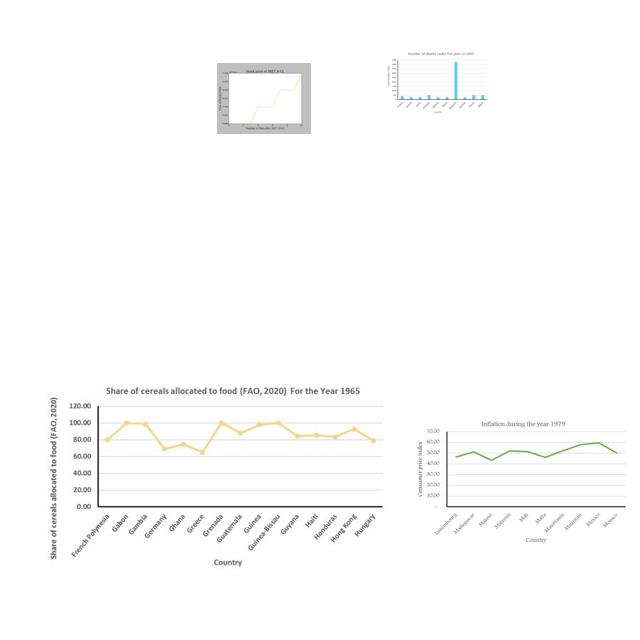Graph: (40, 382, 395, 578), (417, 419, 630, 545), (385, 50, 490, 116), (217, 63, 311, 134)
